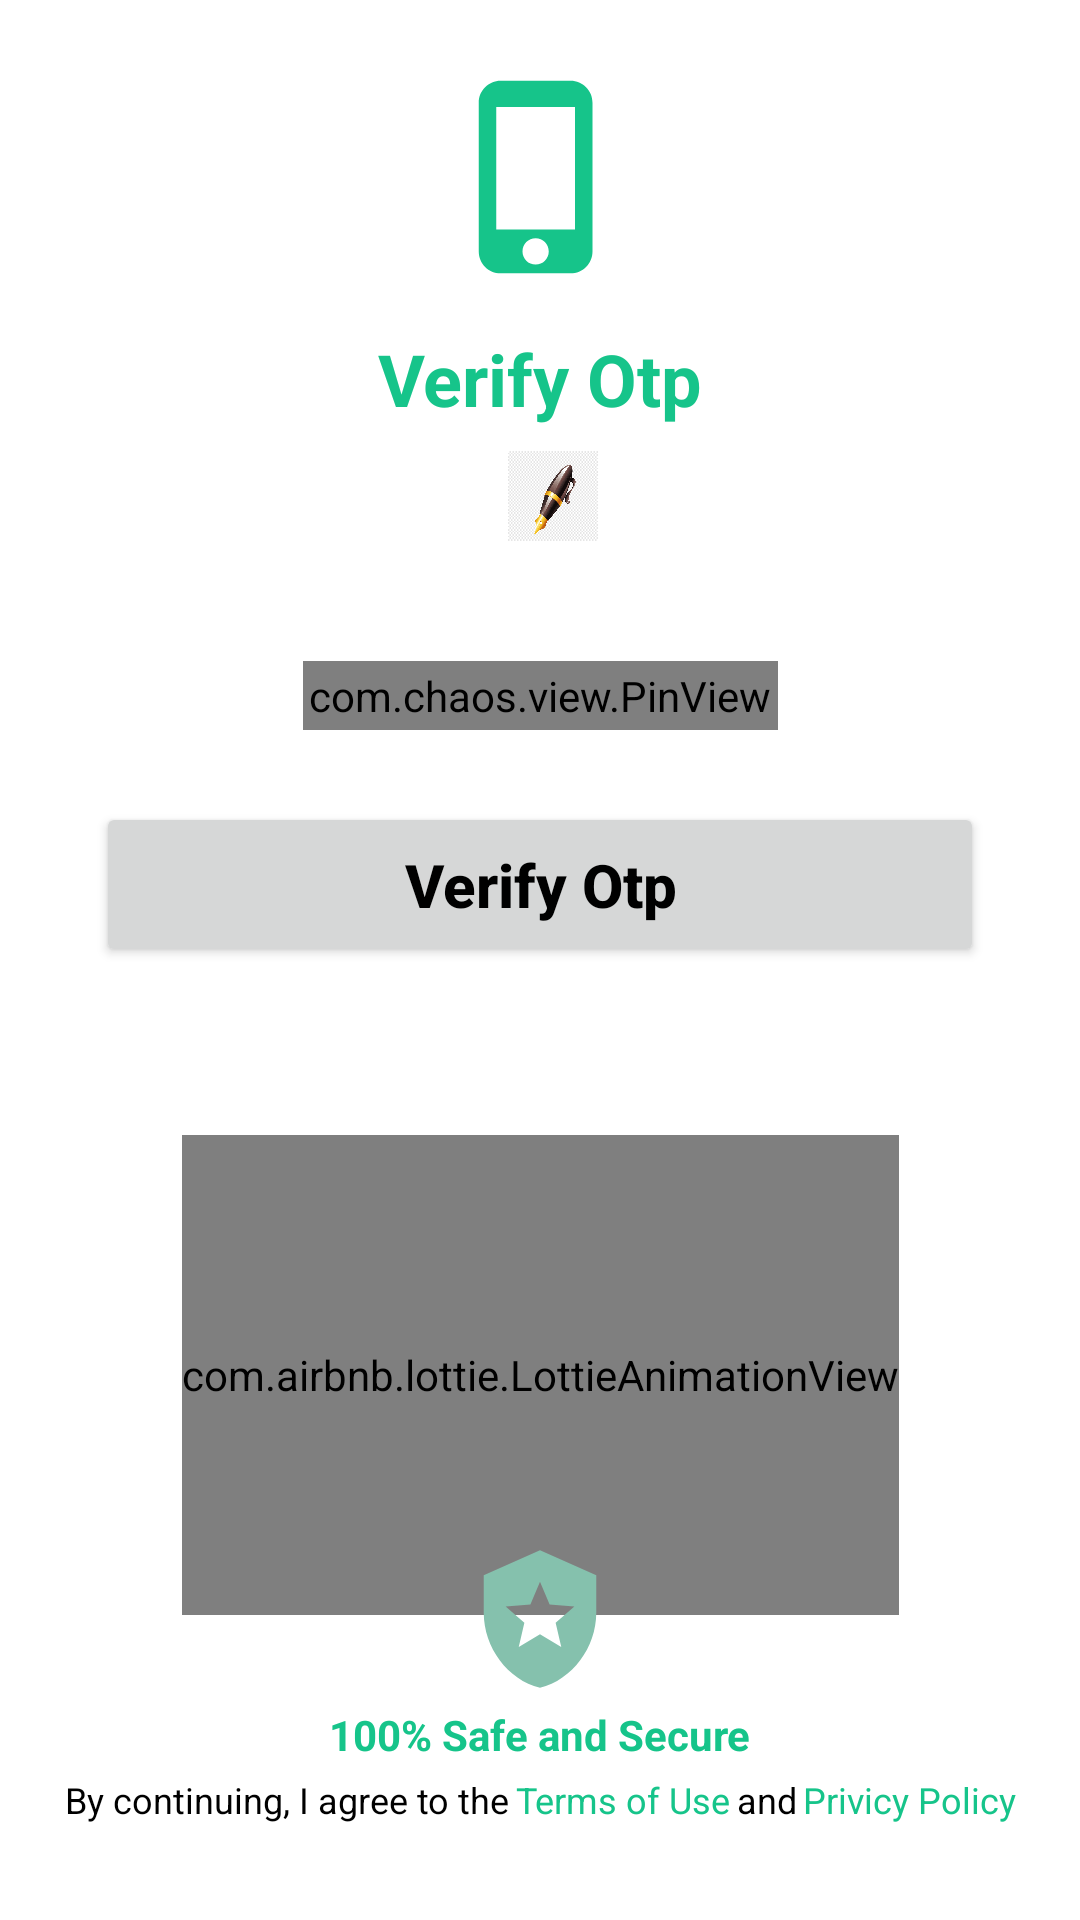

Icon click points for this 1080 x 1920 phone screenshot, format (x,y):
local police: (540,1619)
pen: (553,496)
phone iphone: (535,177)
